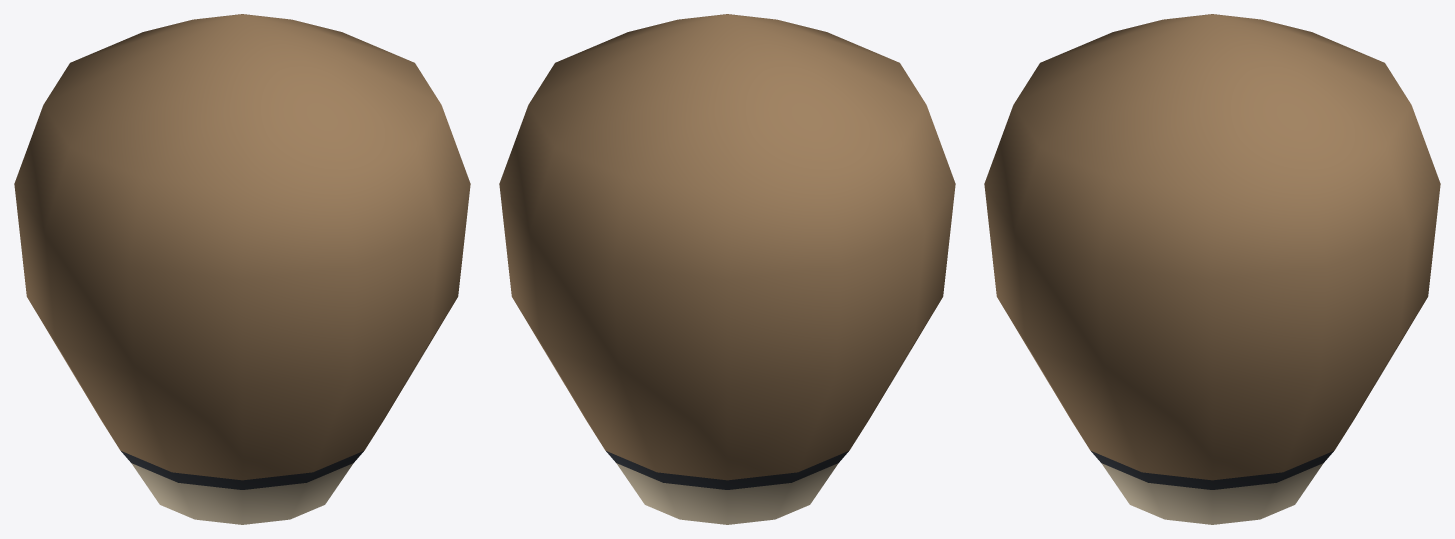
Rendered from hazelnut.glb.
3 renders of one model, left to right at view 1: azimuth 30°, elevation 25°; view 2: azimuth 150°, elevation 25°; view 3: azimuth 270°, elevation 25°, orthographic.
Parts seen in each view (by area): view 1: hazelnut; view 2: hazelnut; view 3: hazelnut.
Part boxes in pixels (bbox=[...]): hazelnut: bbox=[14, 14, 470, 524]; hazelnut: bbox=[499, 14, 955, 524]; hazelnut: bbox=[984, 14, 1440, 524].
Size of the model in its own units: 0.022 by 0.025 by 0.022.
